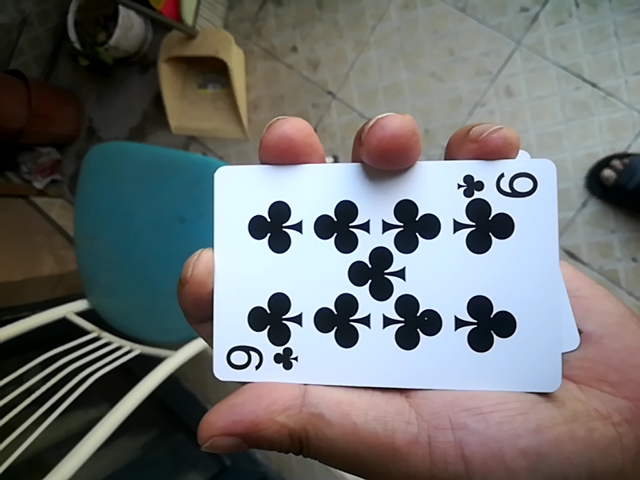mh 9: (215, 158, 586, 394)
